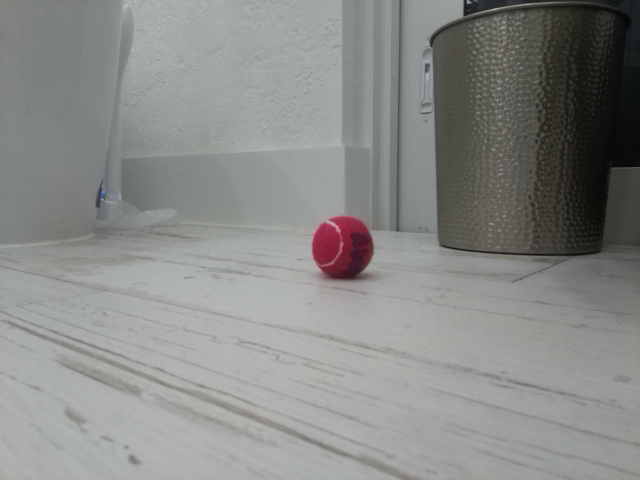red-ball: (311, 214, 375, 280)
